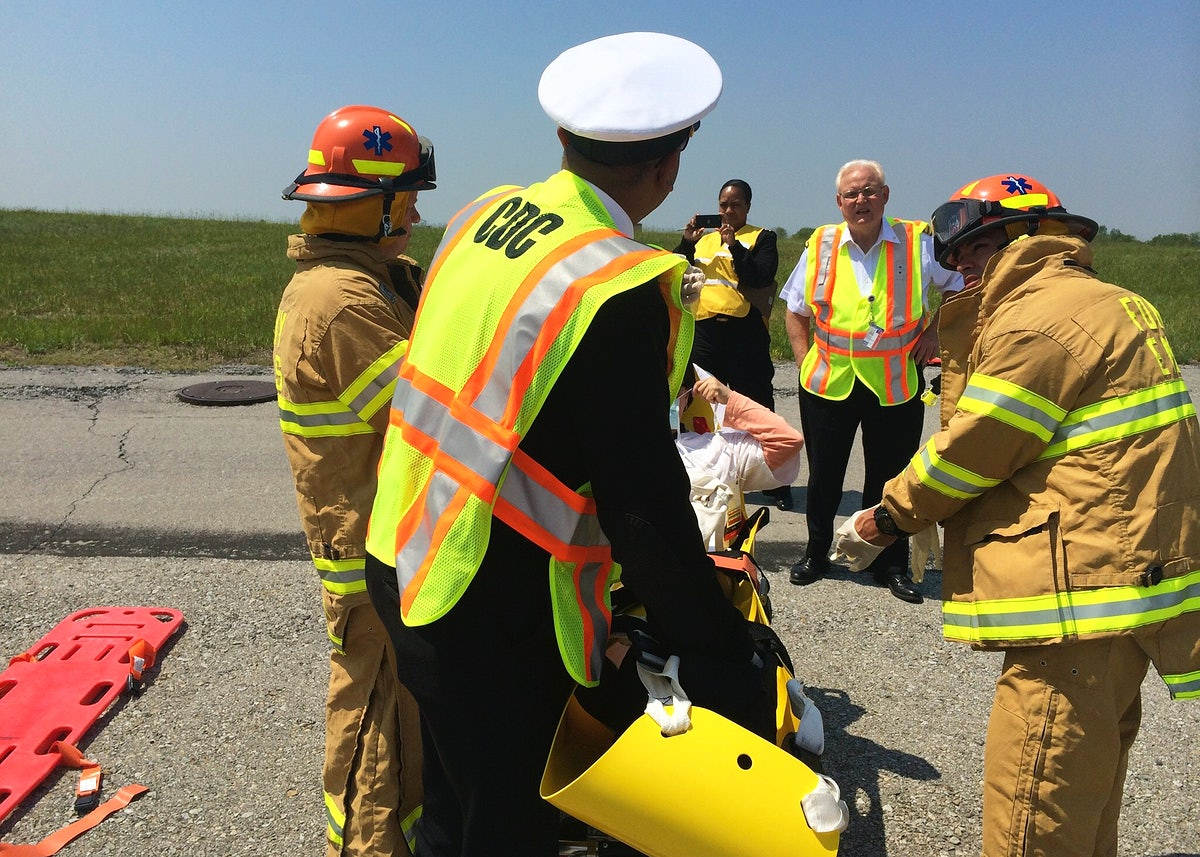Hard Hat: (281, 107, 435, 252), (922, 172, 1099, 282)
Person: (829, 169, 1200, 855), (278, 105, 423, 854), (795, 162, 920, 607), (679, 179, 773, 417)
Vest: (366, 112, 709, 678), (800, 158, 935, 405), (680, 181, 775, 324)
